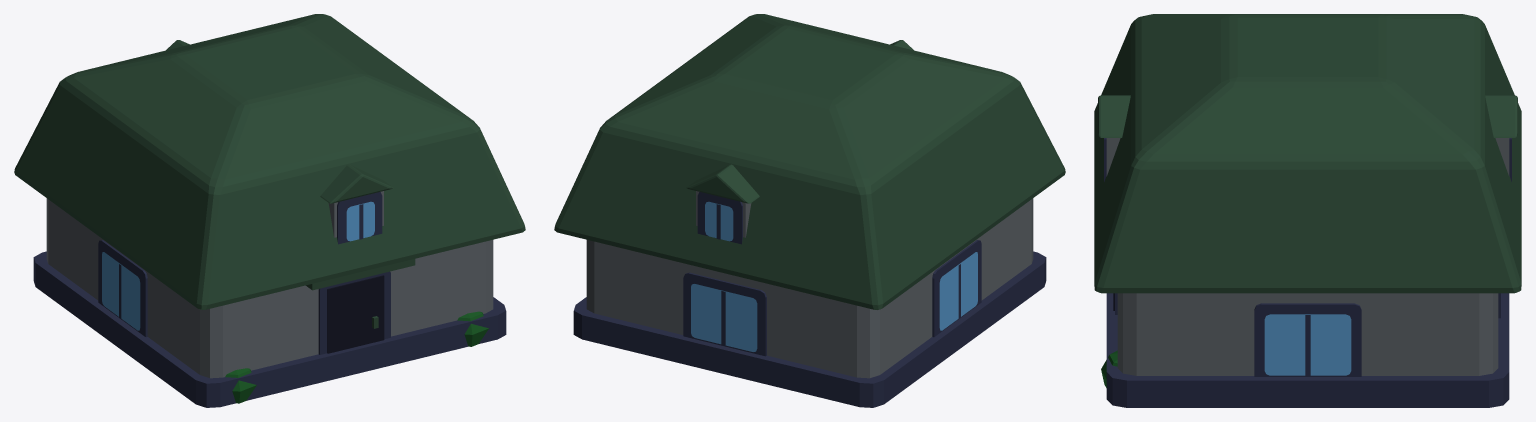
The model's file is house-1x1-1f-mansard-d.glb.
The picture shows the model from 3 angles, left to right: view 1: azimuth 30°, elevation 25°; view 2: azimuth 150°, elevation 25°; view 3: azimuth 270°, elevation 25°; orthographic projection. The views are drawn at different scales.
Parts seen in each view (by area): view 1: house-1x1-1f-mansard-d; view 2: house-1x1-1f-mansard-d; view 3: house-1x1-1f-mansard-d.
Boxes of the visible parts, <box> form: house-1x1-1f-mansard-d: <box>14,14,525,407</box>; house-1x1-1f-mansard-d: <box>554,14,1065,407</box>; house-1x1-1f-mansard-d: <box>1094,14,1521,407</box>.
Size of the model in its own units: 0.9876 by 0.7026 by 0.9876.
Materials: 1 (1 with a texture image).
